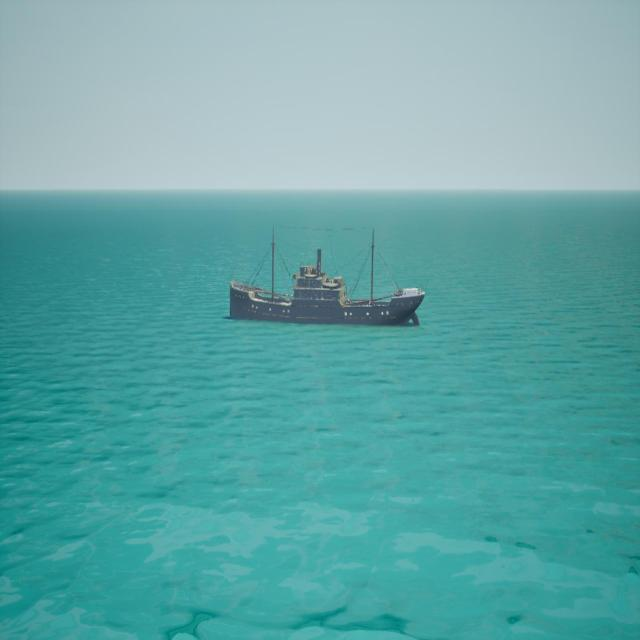fishing ship: (229, 227, 427, 327)
